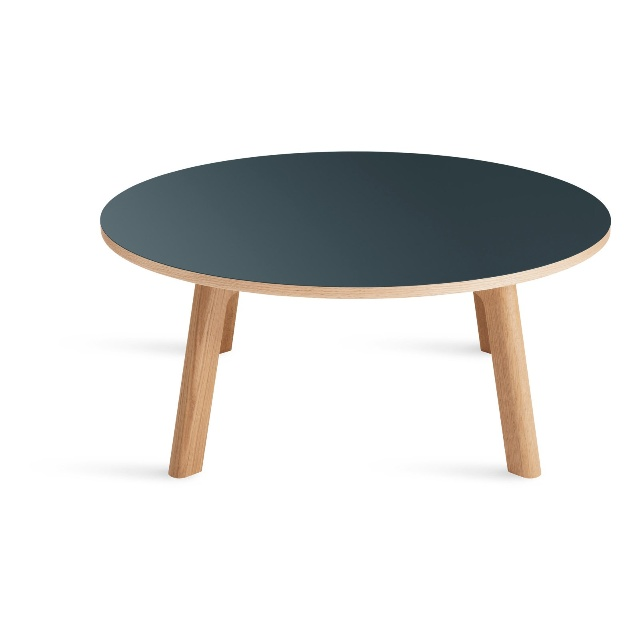obstacle: (101, 152, 610, 478)
